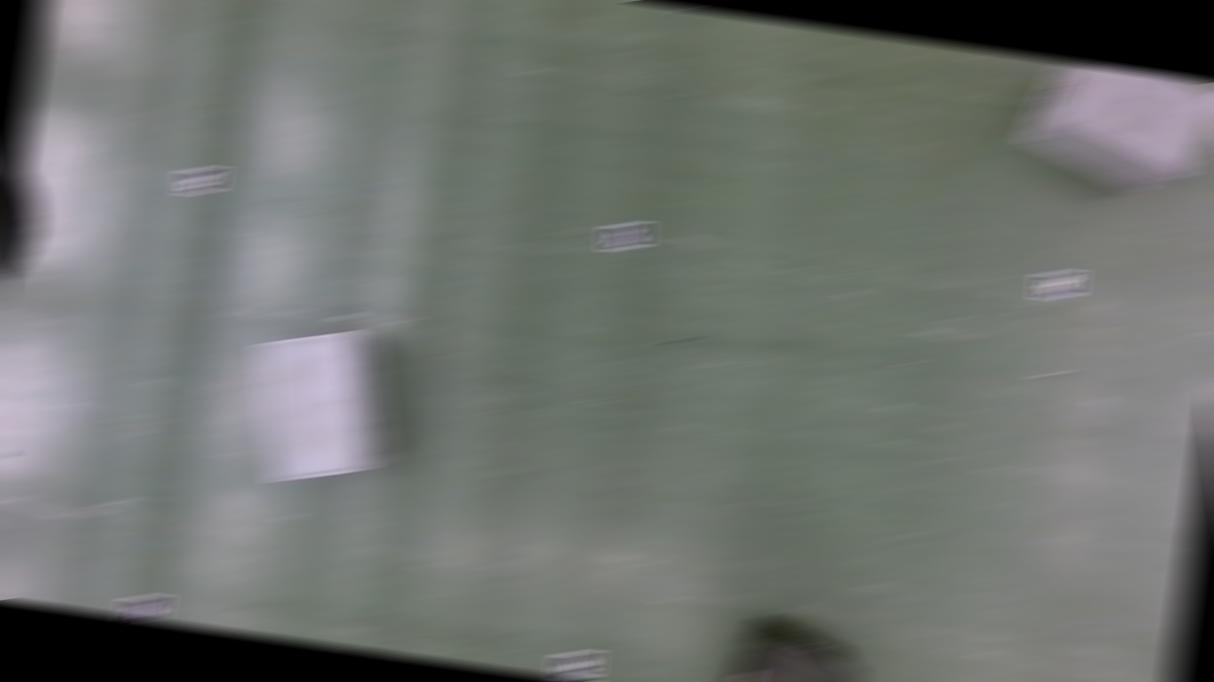probes: (0, 428, 15, 460), (674, 8, 720, 18)
rako: (230, 317, 410, 498), (1008, 56, 1214, 202), (709, 611, 870, 682)
